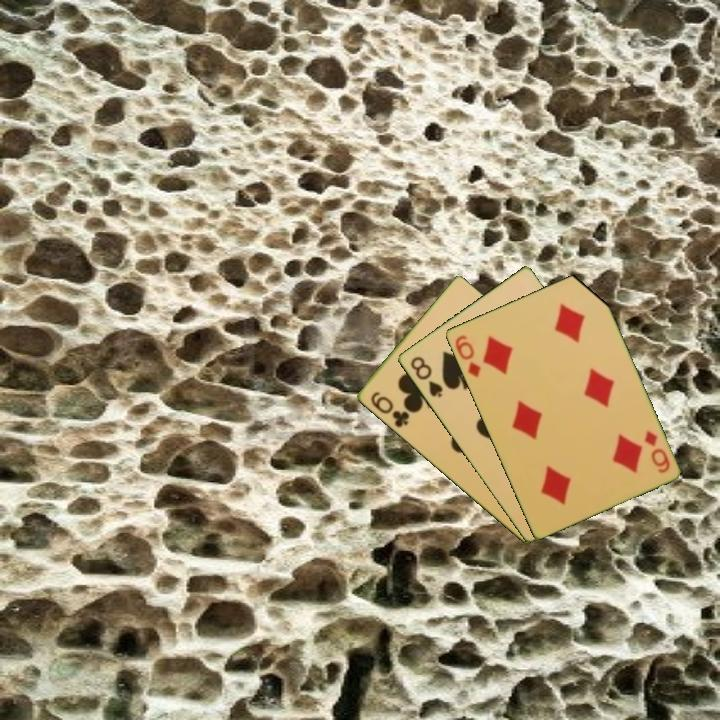6c: (366, 388, 412, 431)
6d: (451, 331, 483, 380), (640, 427, 672, 476)
8s: (406, 353, 445, 400)
